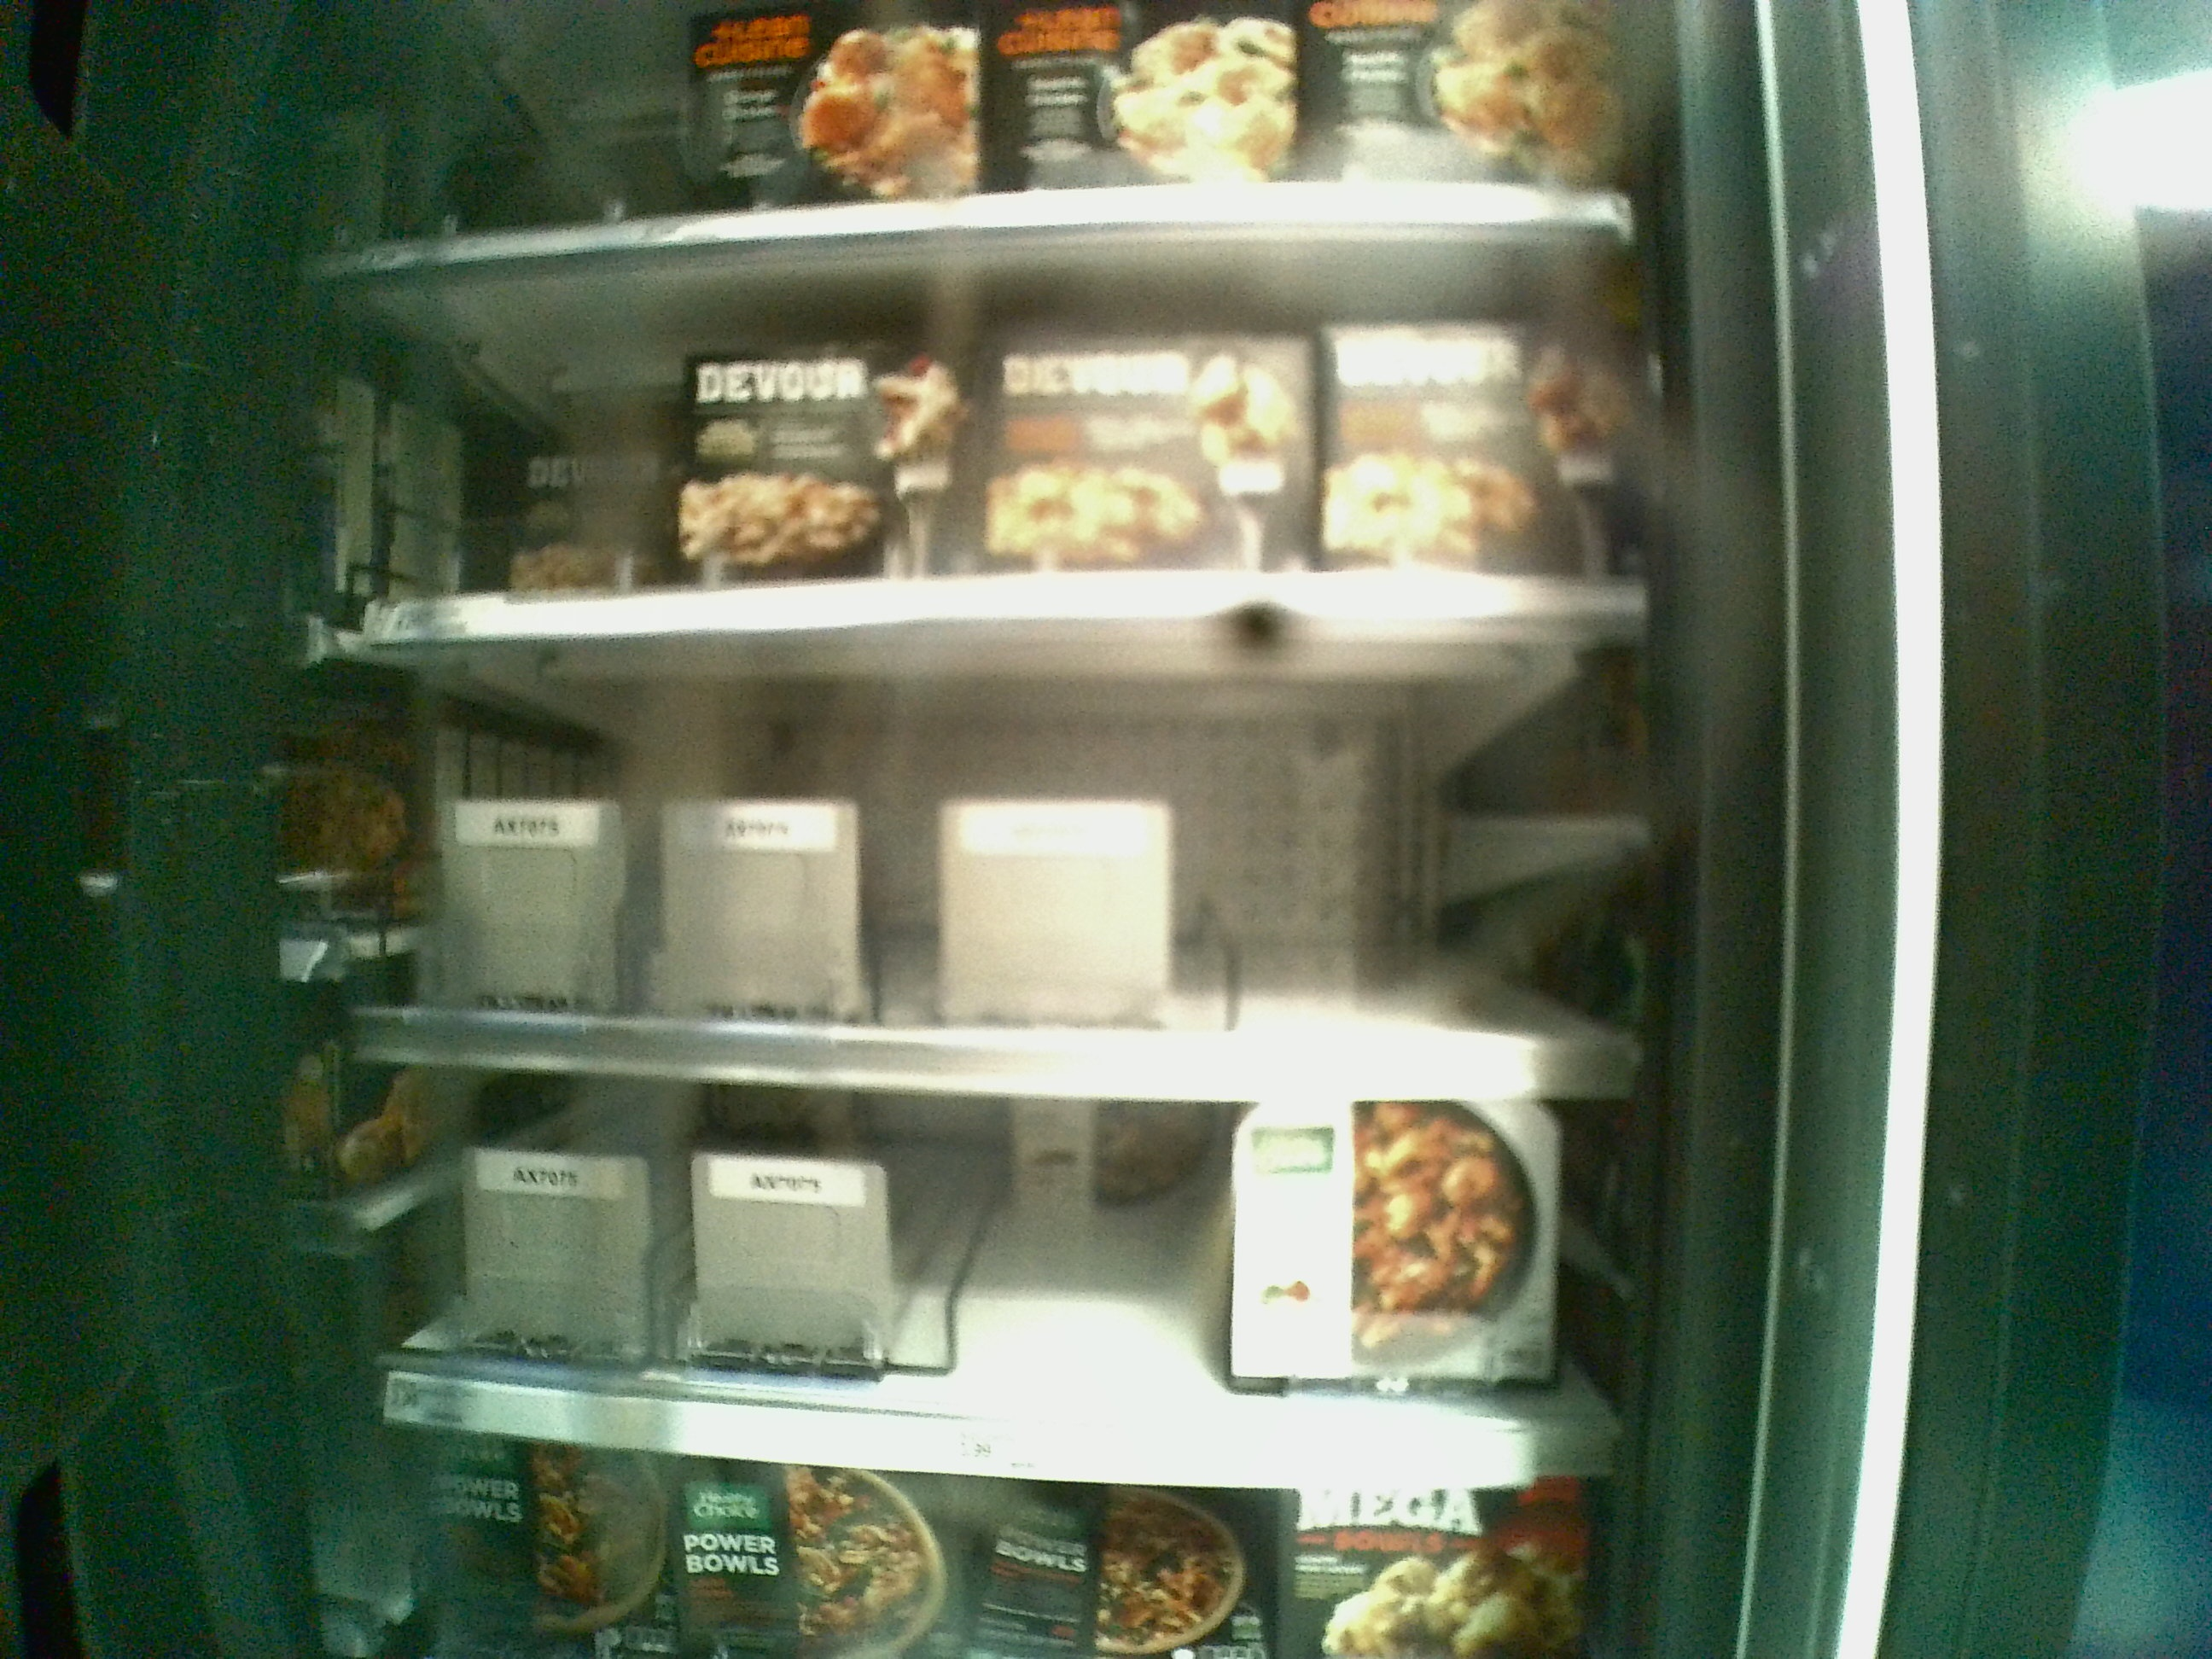shelf: (354, 636, 1662, 1098), (341, 1049, 1663, 1490), (303, 234, 1662, 627)
